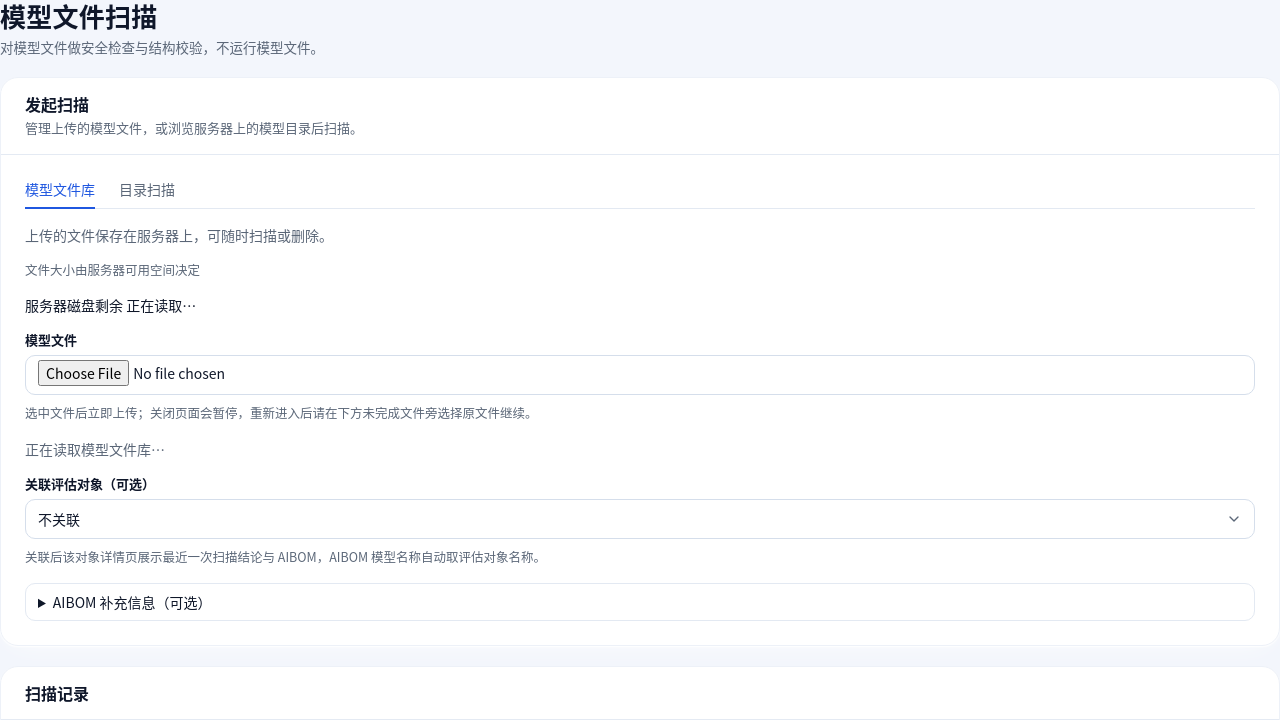
Test: 目录浏览：面包屑 + 列表 › 点进目录后面包屑追加一段，点面包屑可回退到任意一级
Click the tab "目录扫描": [147, 194] box [119, 179, 175, 209]
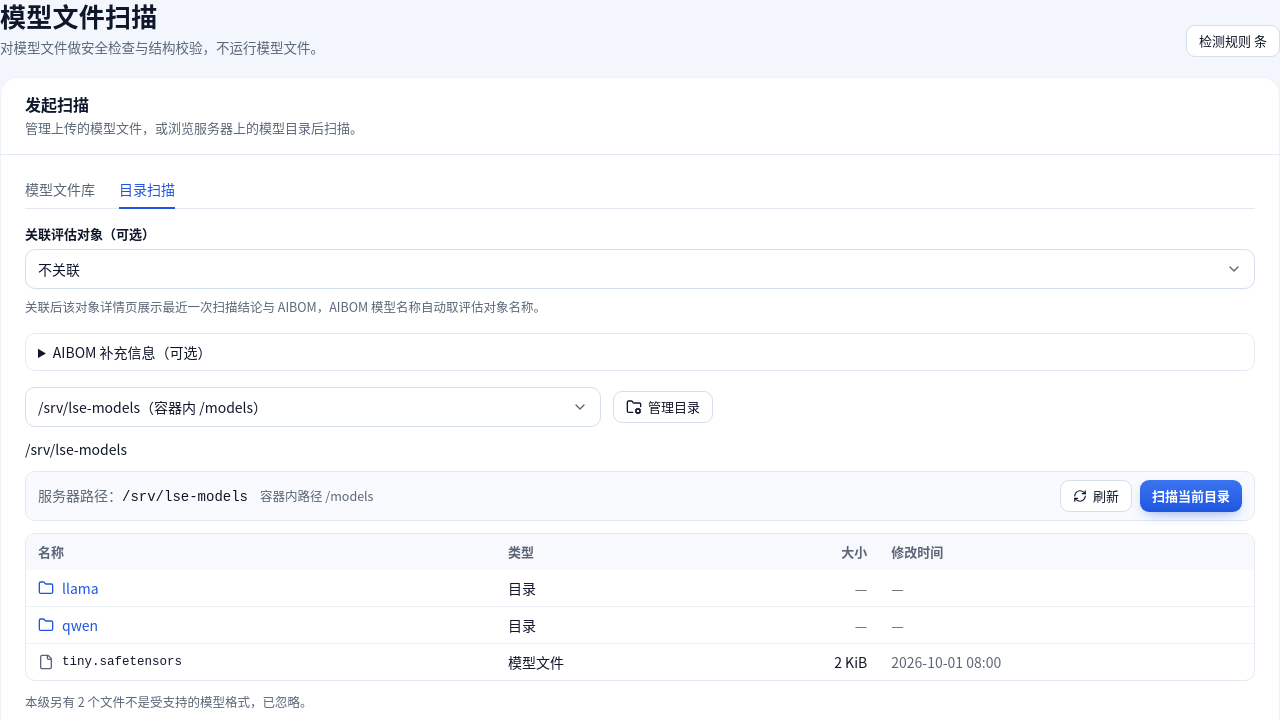
Click the button with aria-label "进入目录 llama": [68, 588] box [38, 578, 99, 598]
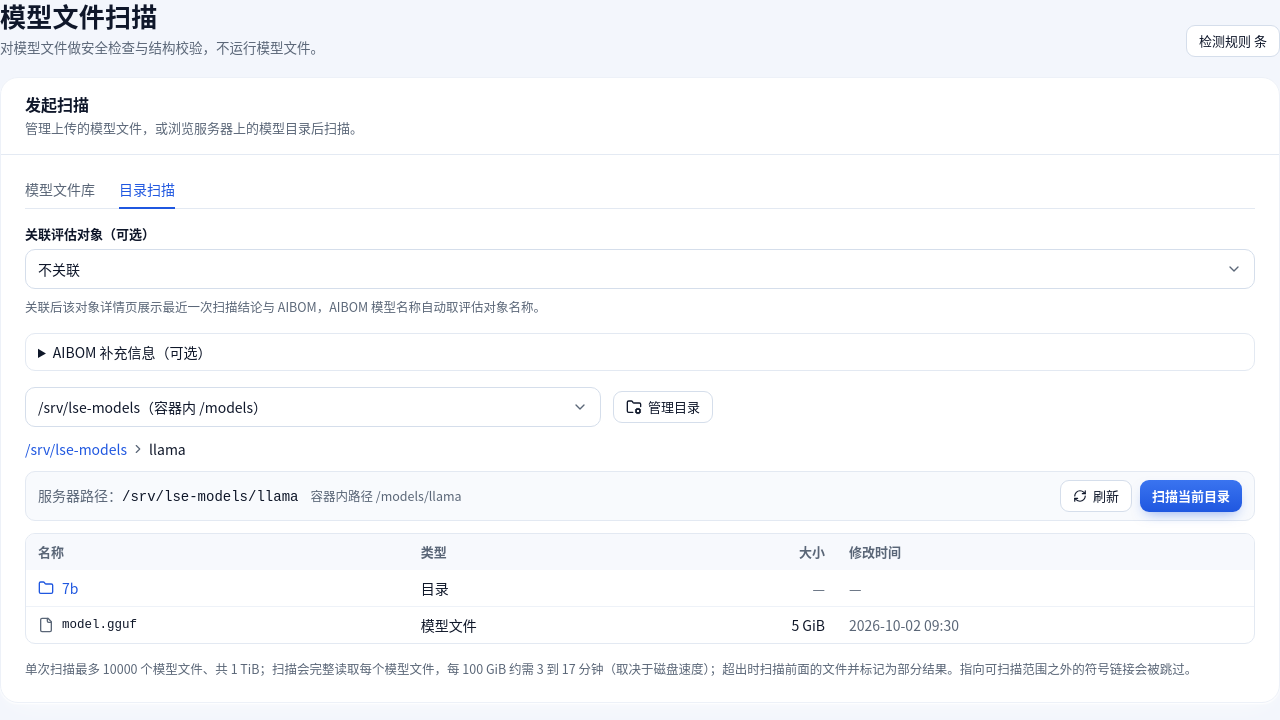
Result: the text "model.gguf" is shown at [62, 616, 137, 634]
Click the button with aria-label "回到 /models": [76, 449] box [25, 439, 127, 459]
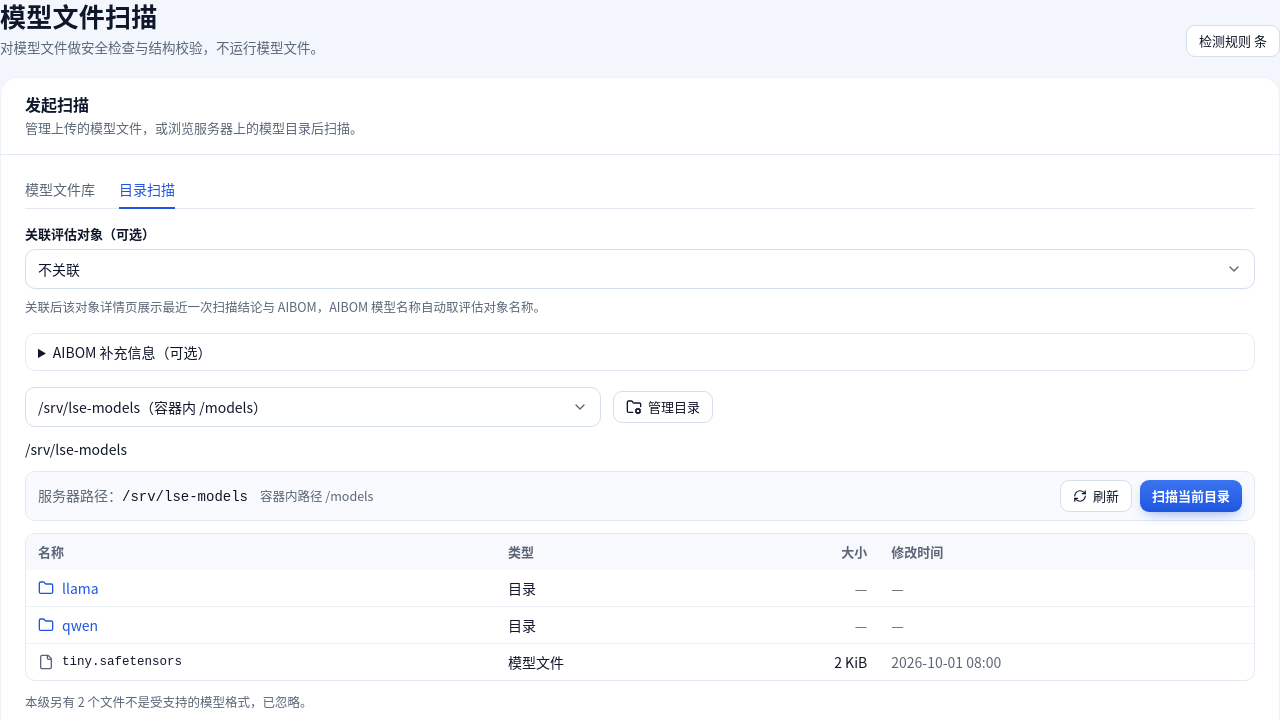
Result: the button with aria-label "进入目录 qwen" is shown at [38, 615, 98, 635]
